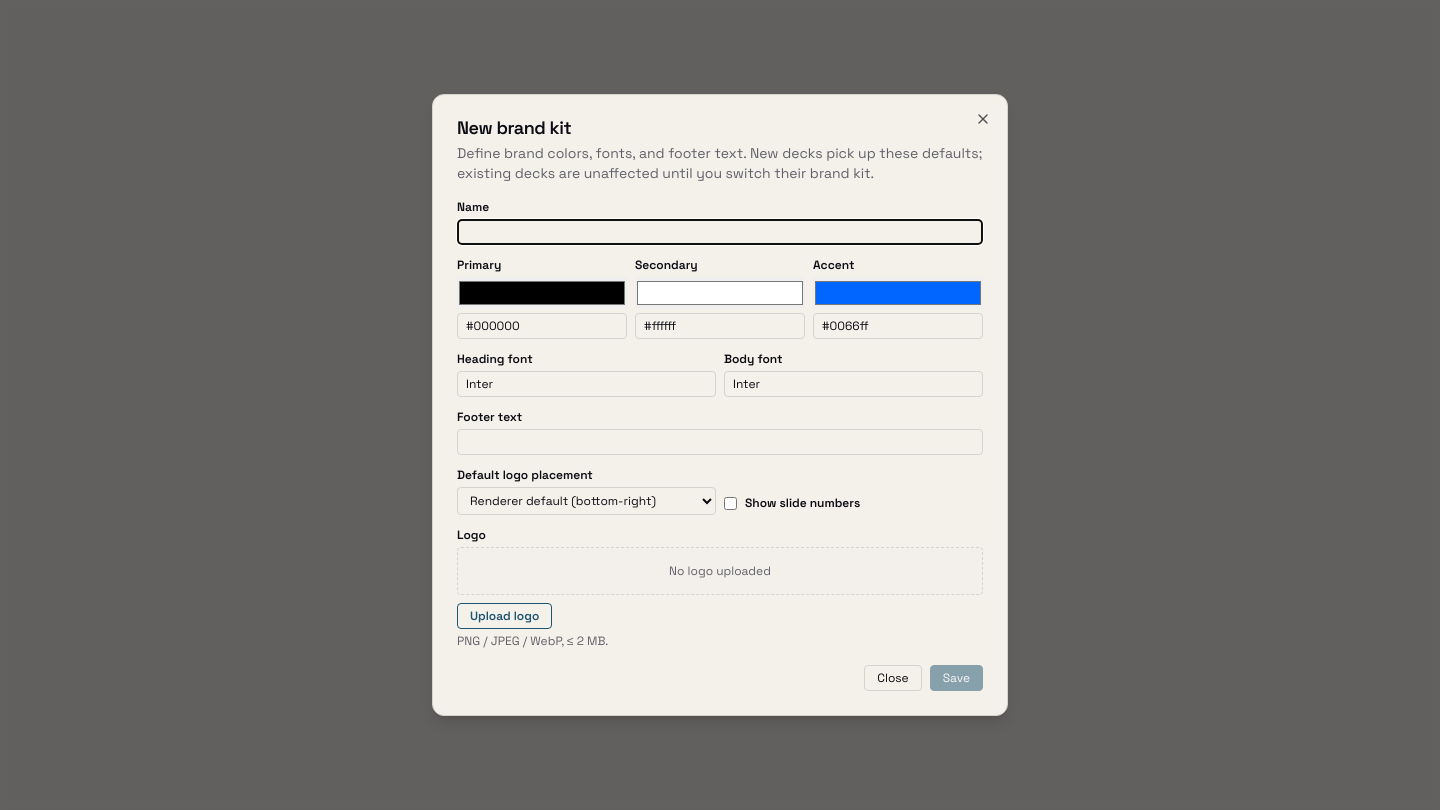
Test case: BrandKitEditor › validates hex colors and surfaces an inline error
The width and height of the screenshot is (1440, 810).
Type "Test" into the field with test id "pitch-bk-name".
click(720, 232); type("Test")  # box [457,219,983,245]
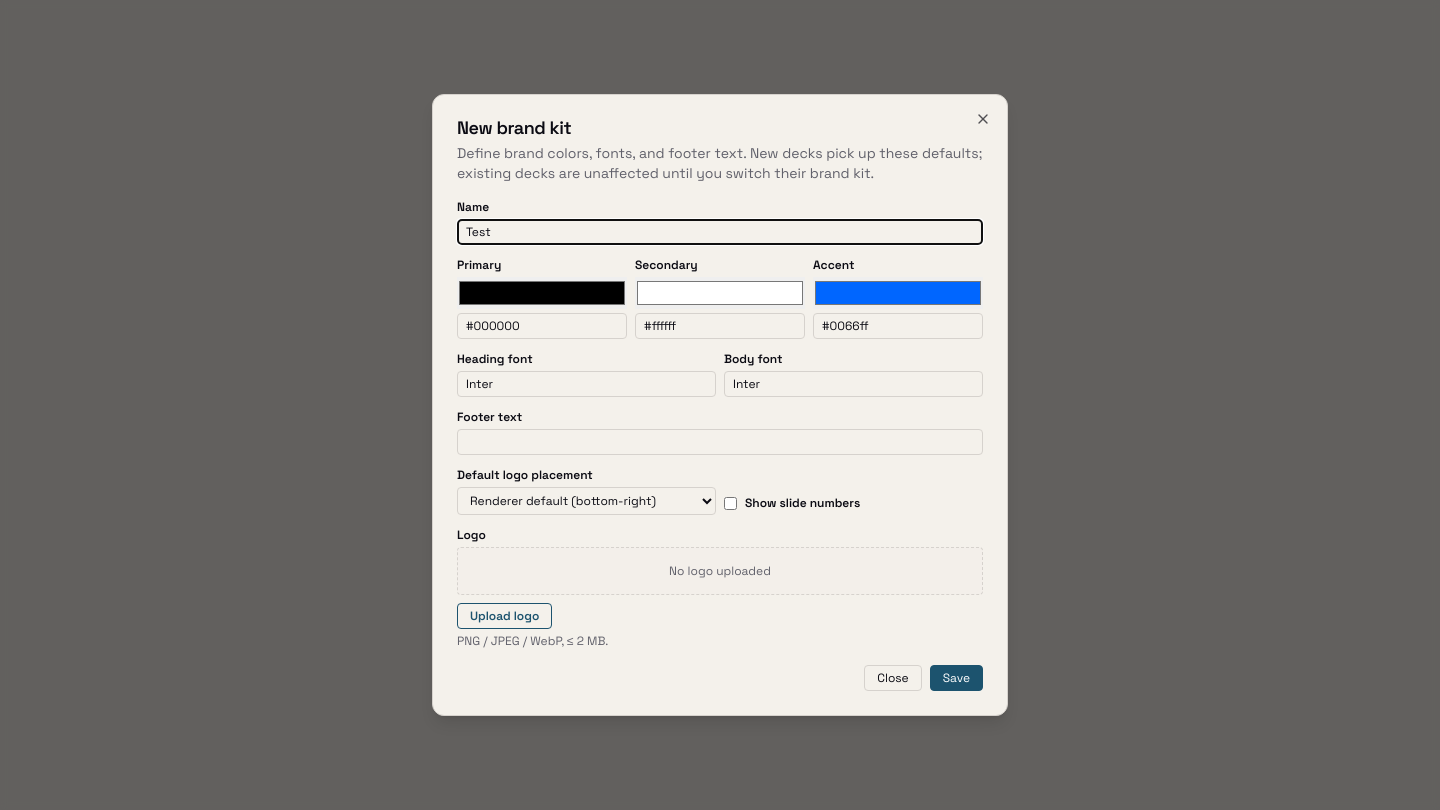
Replace the text in the field with test id "pitch-bk-primaryColor-hex" with "abc" at point(542, 326), box [457,313,627,339]
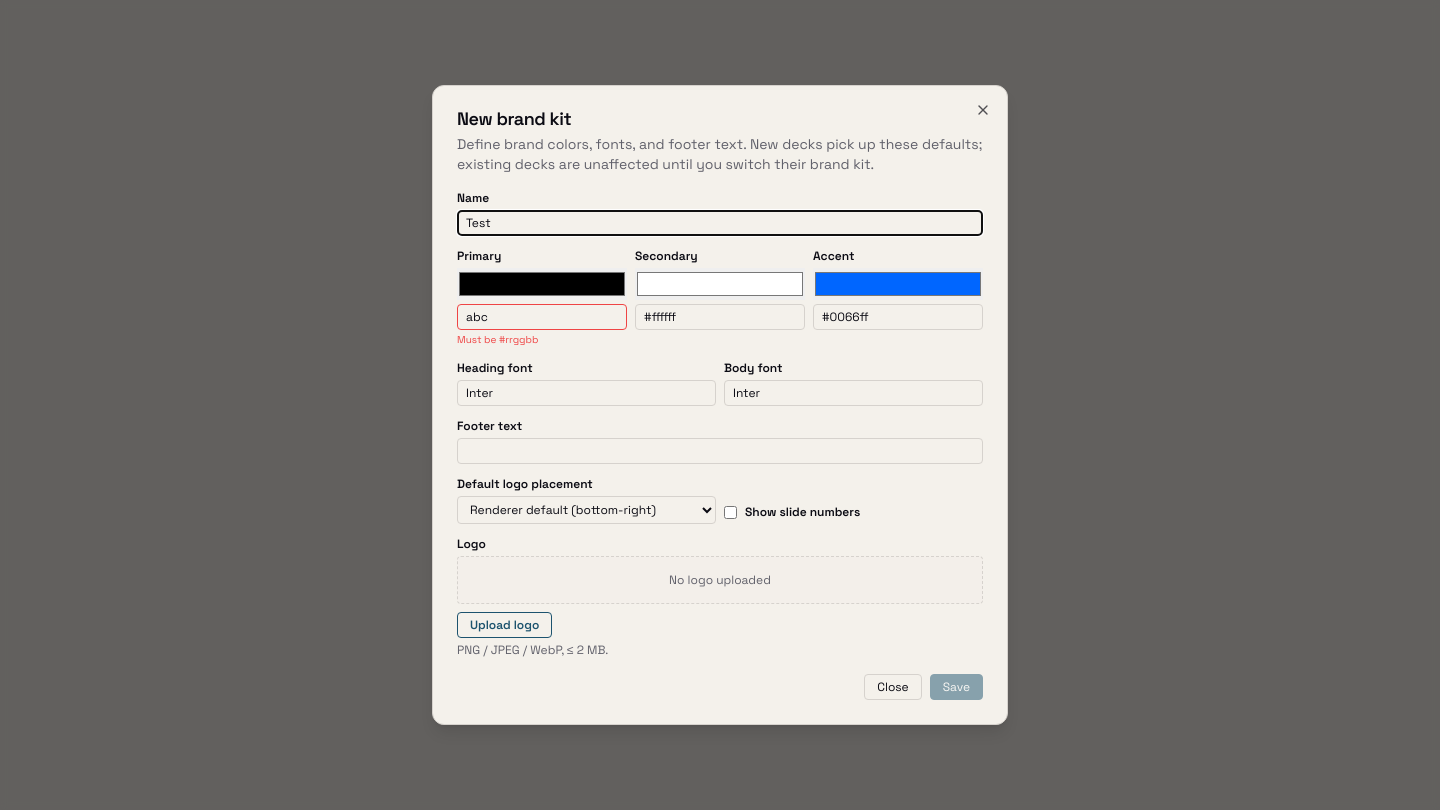
Result: the text "Must be #rrggbb" is shown at [457,333,538,346]
Result: the button with test id "pitch-bk-save" is disabled at [930,674,983,700]
